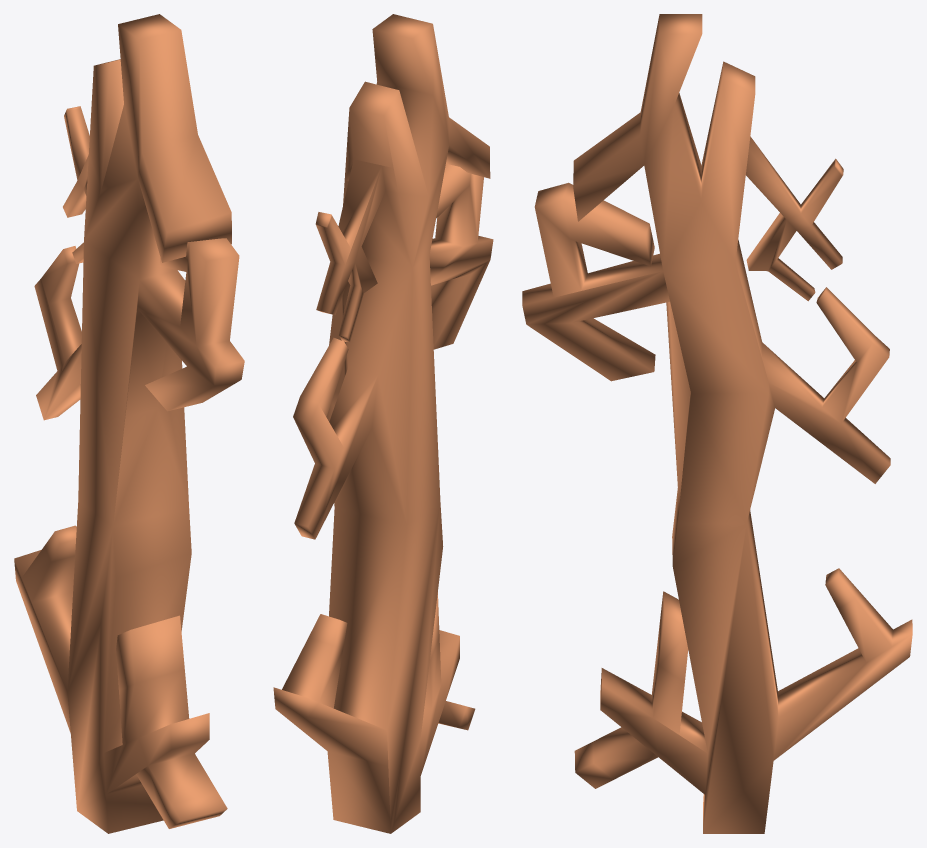
The model's file is Coral3.glb.
3 renders of one model, left to right at view 1: azimuth 30°, elevation 25°; view 2: azimuth 150°, elevation 25°; view 3: azimuth 270°, elevation 25°, orthographic. The views are drawn at different scales.
Parts seen in each view (by area): view 1: Cube.002; view 2: Cube.002; view 3: Cube.002.
Boxes of the visible parts, x1,y1,x2,y2 form: Cube.002: (14,14,244,833); Cube.002: (273,14,493,833); Cube.002: (522,14,912,833).
Size of the model in its own units: 0.613 by 6.1 by 2.71.
